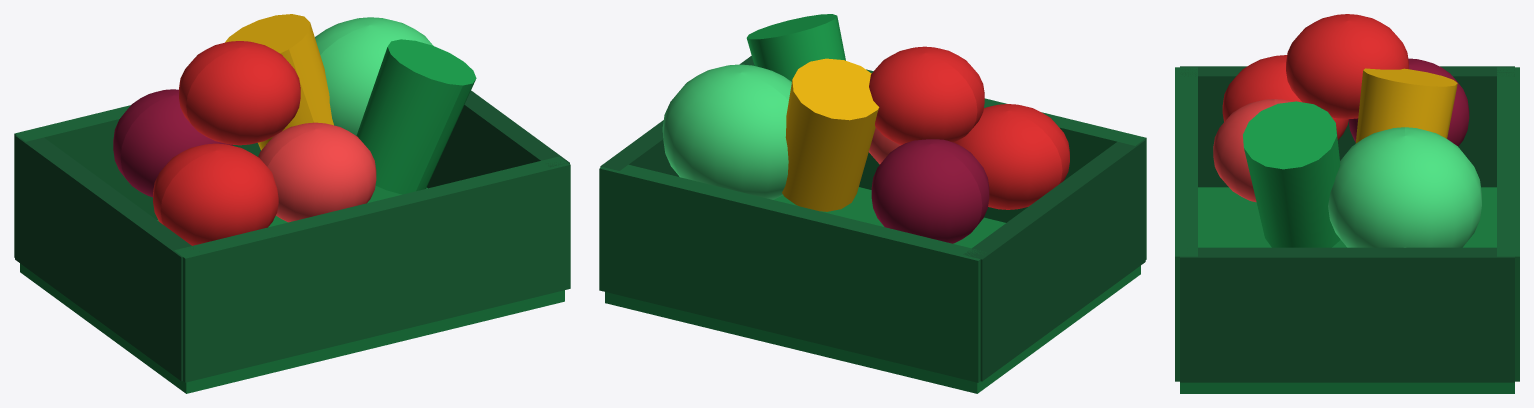
Rendered from vegetable-crate.glb.
The picture shows the model from 3 angles, left to right: view 1: azimuth 30°, elevation 25°; view 2: azimuth 150°, elevation 25°; view 3: azimuth 270°, elevation 25°; orthographic projection. The views are drawn at different scales.
Parts seen in each view (by area): view 1: Crate_Front, Crate_Left, Pepper_Green, Tomato_Top, Tomato_01, Tomato_02, Crate_Base, Cabbage_Leaf, Crate_Right, Onion_Red_01, Pepper_Yellow, Crate_Back; view 2: Crate_Back, Crate_Left, Cabbage_Leaf, Pepper_Yellow, Onion_Red_01, Tomato_Top, Tomato_01, Crate_Base, Pepper_Green, Crate_Front, Crate_Right, Tomato_02; view 3: Crate_Right, Cabbage_Leaf, Pepper_Green, Crate_Base, Tomato_Top, Crate_Left, Pepper_Yellow, Crate_Front, Crate_Back, Tomato_02, Tomato_01, Onion_Red_01.
Boxes of the visible parts, x1,y1,x2,y2 form: Crate_Front: (174, 156, 570, 382); Crate_Left: (15, 135, 199, 381); Pepper_Green: (356, 39, 476, 194); Tomato_Top: (179, 41, 300, 145); Tomato_01: (153, 143, 278, 245); Tomato_02: (258, 122, 376, 222); Crate_Base: (20, 185, 564, 393); Cabbage_Leaf: (315, 17, 433, 135); Crate_Right: (427, 90, 569, 188); Onion_Red_01: (113, 89, 232, 197); Pepper_Yellow: (225, 14, 333, 150); Crate_Back: (14, 105, 260, 257); Crate_Back: (599, 164, 985, 382); Crate_Left: (963, 139, 1145, 381); Cabbage_Leaf: (662, 64, 791, 199); Pepper_Yellow: (782, 58, 879, 211); Onion_Red_01: (871, 139, 989, 243); Tomato_Top: (869, 46, 984, 145); Tomato_01: (954, 104, 1069, 209); Crate_Base: (605, 187, 1140, 393); Pepper_Green: (746, 14, 845, 81); Crate_Front: (859, 69, 1146, 259); Crate_Right: (600, 56, 754, 176); Tomato_02: (869, 127, 900, 164); Crate_Right: (1180, 247, 1514, 382); Cabbage_Leaf: (1328, 127, 1481, 247); Pepper_Green: (1243, 101, 1340, 247); Crate_Base: (1180, 187, 1514, 393); Tomato_Top: (1286, 14, 1408, 119); Crate_Left: (1180, 66, 1514, 187); Pepper_Yellow: (1355, 68, 1457, 143); Crate_Front: (1175, 67, 1197, 381); Crate_Back: (1497, 67, 1519, 381); Tomato_02: (1213, 99, 1292, 202); Tomato_01: (1222, 55, 1348, 139); Onion_Red_01: (1348, 58, 1469, 146).
Bounding box in the file's own units: 0.236 × 0.1463 × 0.18.
